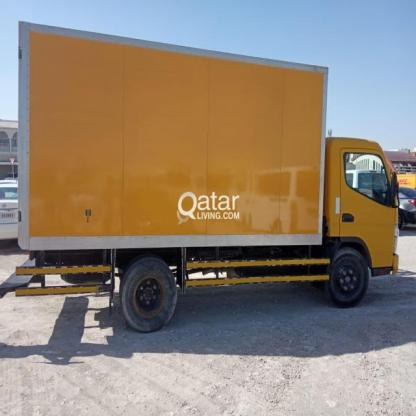truck: (18, 20, 401, 335)
